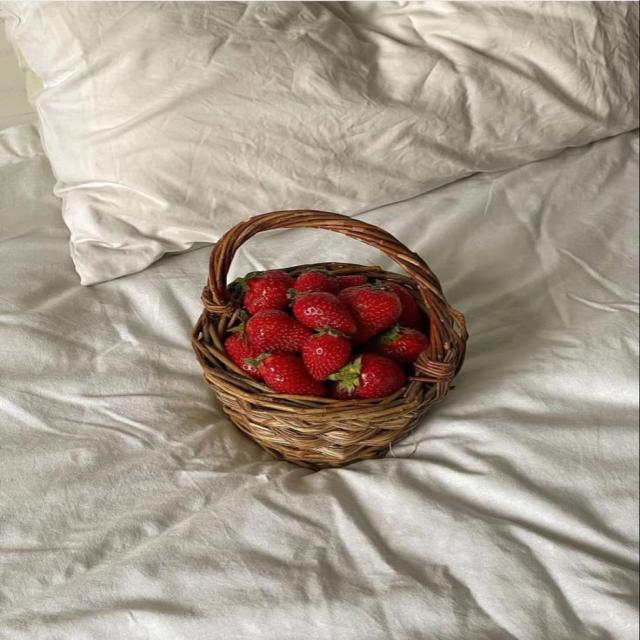strawberry: (329, 353, 406, 399), (339, 286, 400, 344), (248, 353, 327, 396), (230, 271, 293, 315), (247, 310, 312, 352), (293, 292, 356, 335), (302, 330, 351, 381), (367, 325, 428, 365), (381, 282, 425, 329), (225, 328, 261, 379), (294, 270, 340, 294), (337, 275, 367, 289)
